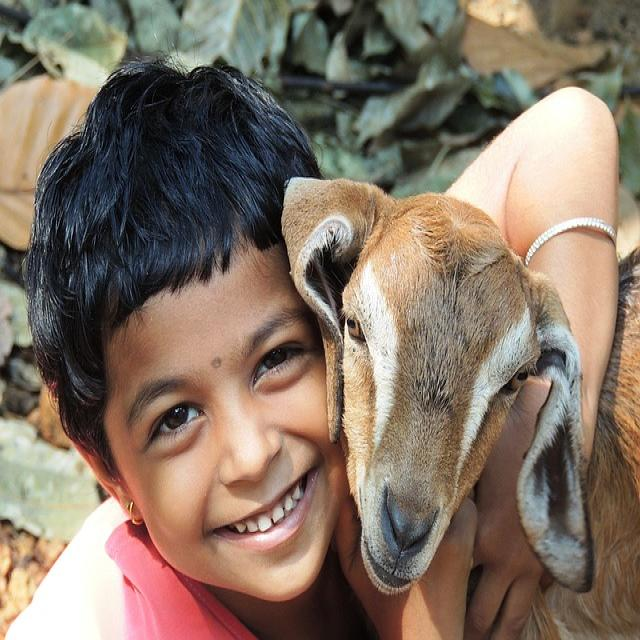goat: (282, 178, 640, 638)
